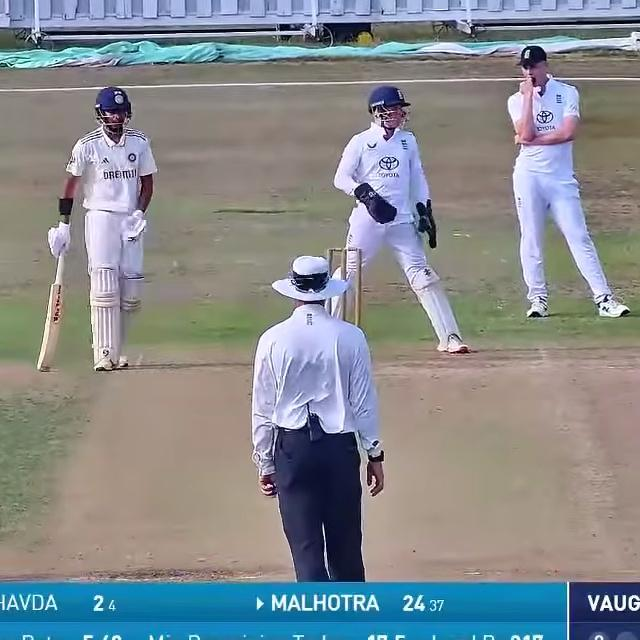umpire: (240, 245, 388, 585)
